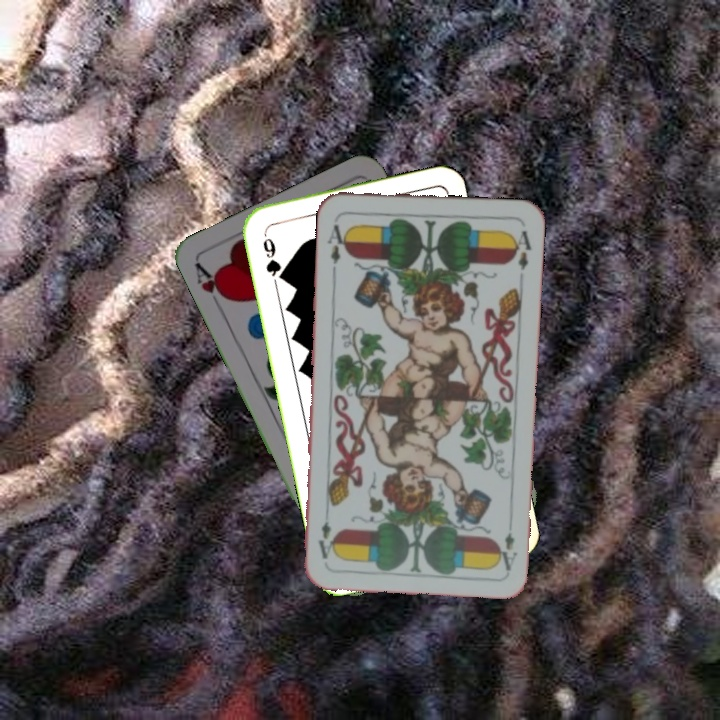EA: (323, 220, 350, 274), (493, 528, 520, 573)
G9: (258, 228, 287, 284)
HA: (191, 259, 232, 314)
